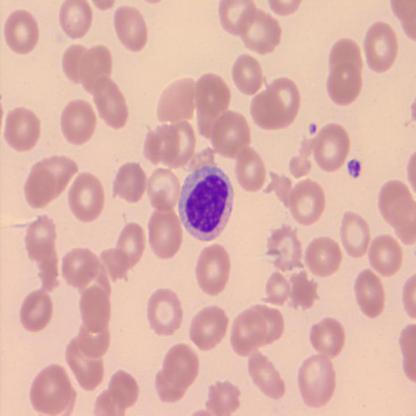Myelocyte: (182, 168, 236, 241)
